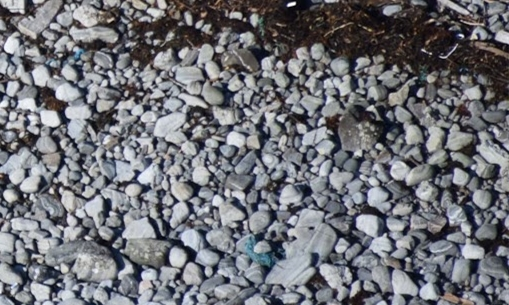net: (239, 230, 277, 268)
white_in_green: (63, 35, 96, 68)
